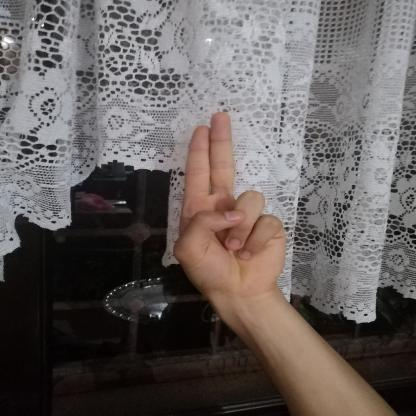TA: (156, 100, 302, 310)
